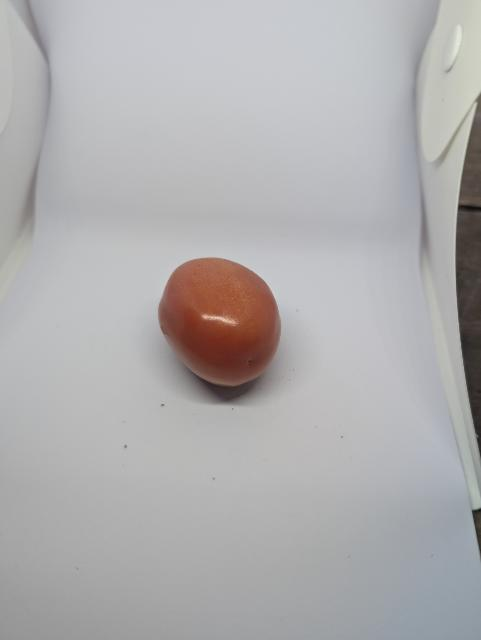red: (156, 255, 288, 393)
